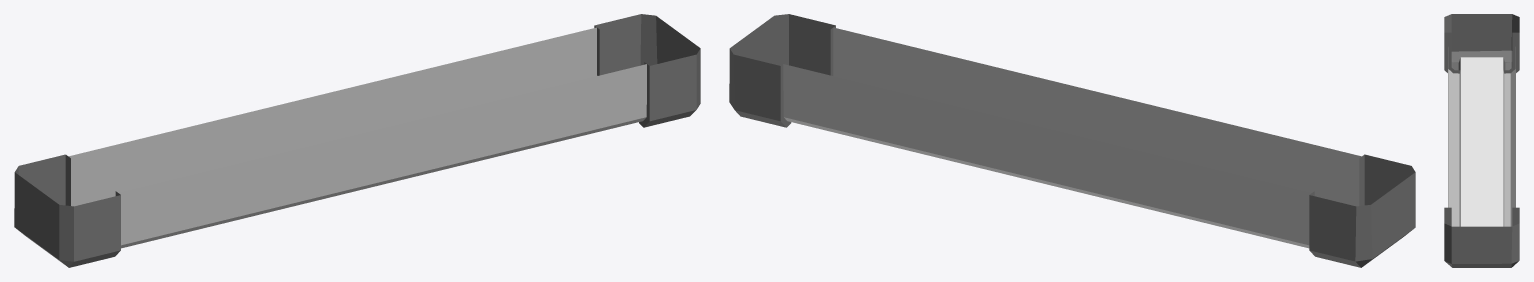
The model's file is light.fbx.
The picture shows the model from 3 angles, left to right: view 1: azimuth 30°, elevation 25°; view 2: azimuth 150°, elevation 25°; view 3: azimuth 270°, elevation 25°; orthographic projection. The views are drawn at different scales.
Visible parts, largest first — view 1: pCube303; view 2: pCube303; view 3: pCube303.
Part boxes in pixels (<box>): pCube303: <box>14,14,700,267</box>; pCube303: <box>729,14,1415,267</box>; pCube303: <box>1444,14,1519,267</box>.
Size of the model in its own units: 108 by 10.56 by 16.03.
Materials: 1 (1 with a texture image).
